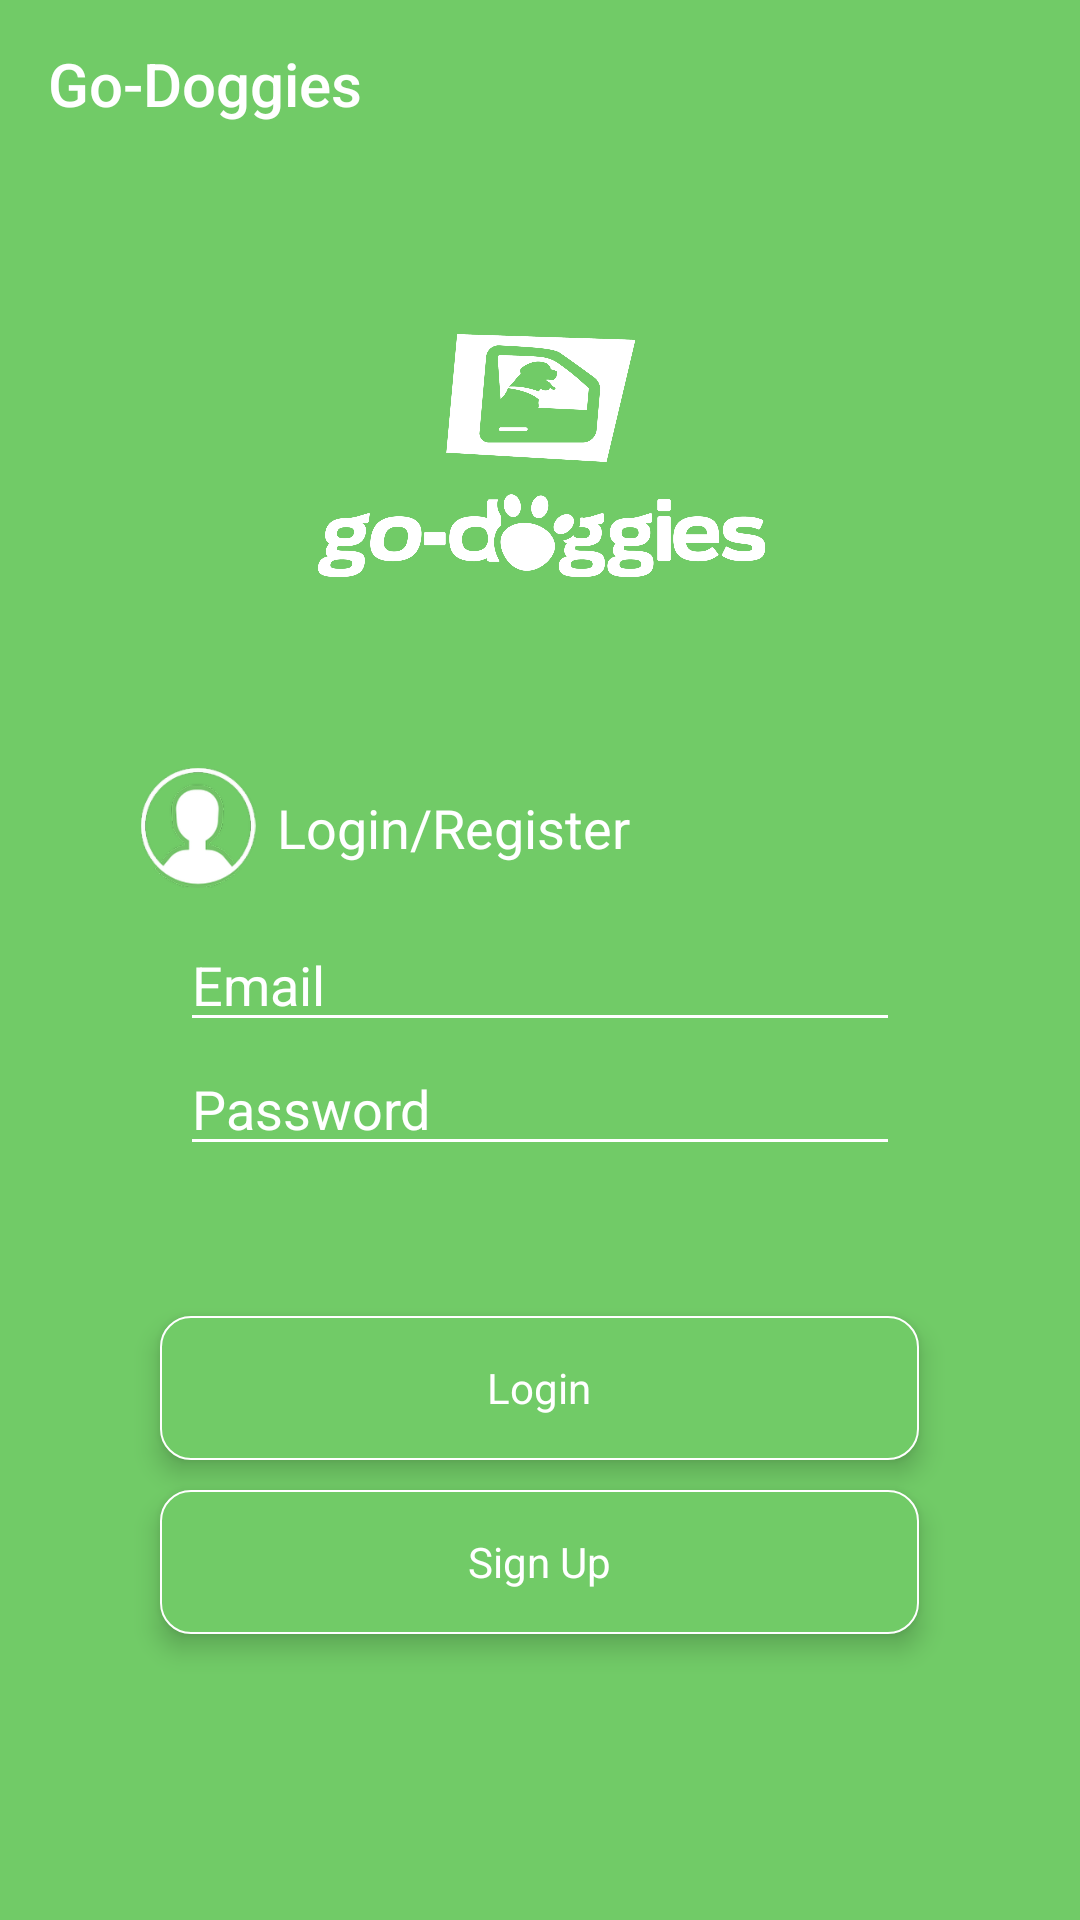

Named icons in this screenshot (1080 × 1920) and their bounding boxes, (x1, y1, x2, y2):
person: (141, 768, 256, 884)
